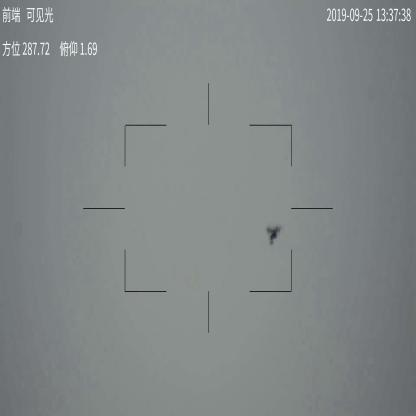uav: (265, 216, 283, 240)
